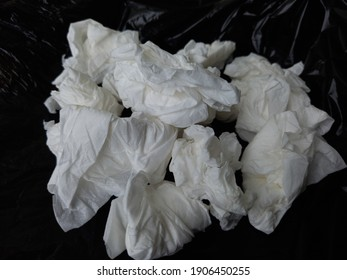Tissue: (112, 38, 239, 124), (239, 112, 316, 235)
